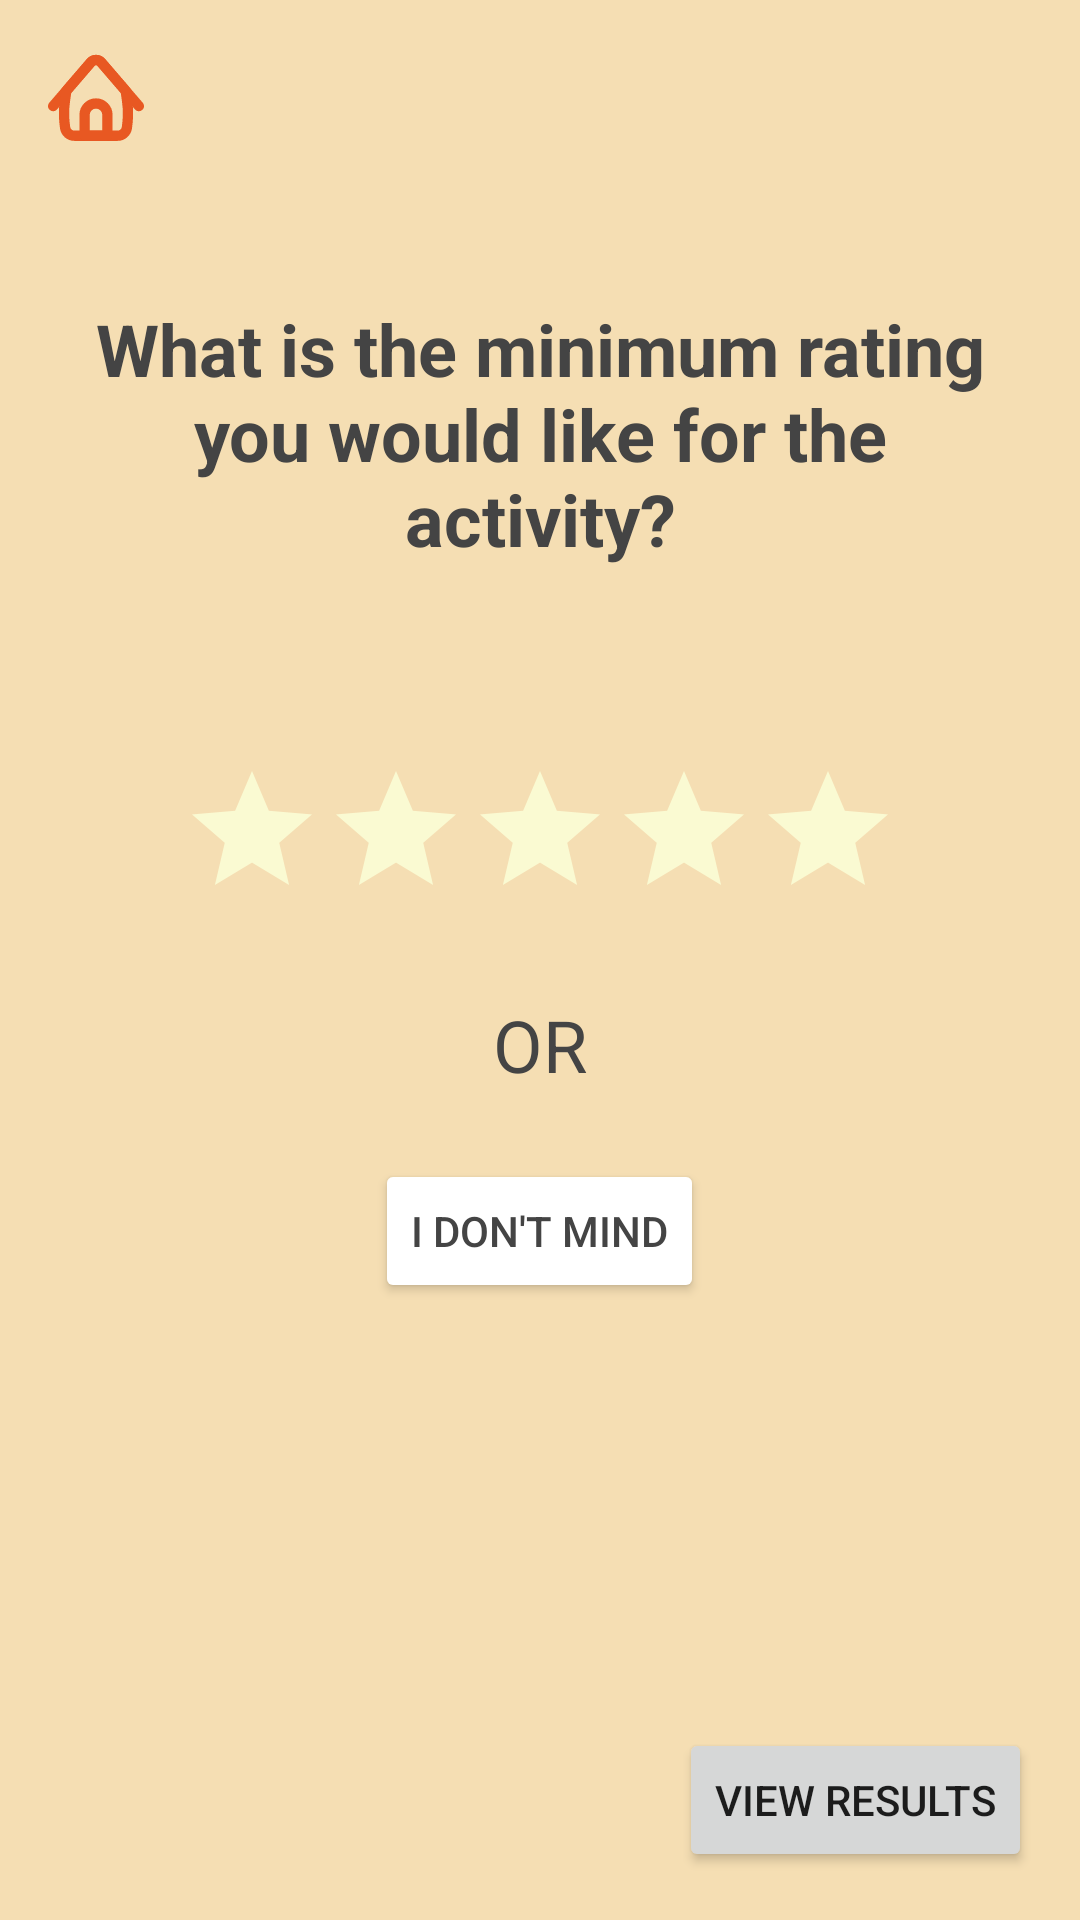

Icon bounding boxes for this 1080px×1920px phone screenshot, format (x1, y1, x2, y2):
home: (48, 54, 144, 141)
